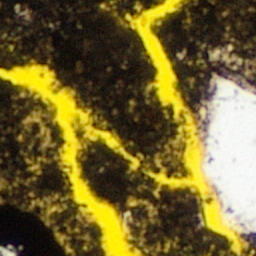cement_matrix: (0, 0, 255, 255), (0, 77, 104, 255), (155, 0, 255, 139), (212, 50, 235, 64), (128, 156, 140, 168)
cracks: (127, 0, 245, 252), (0, 64, 144, 255)
gravel_crushed_stones: (201, 81, 255, 232), (213, 51, 234, 63), (129, 157, 139, 167), (0, 249, 13, 255)
